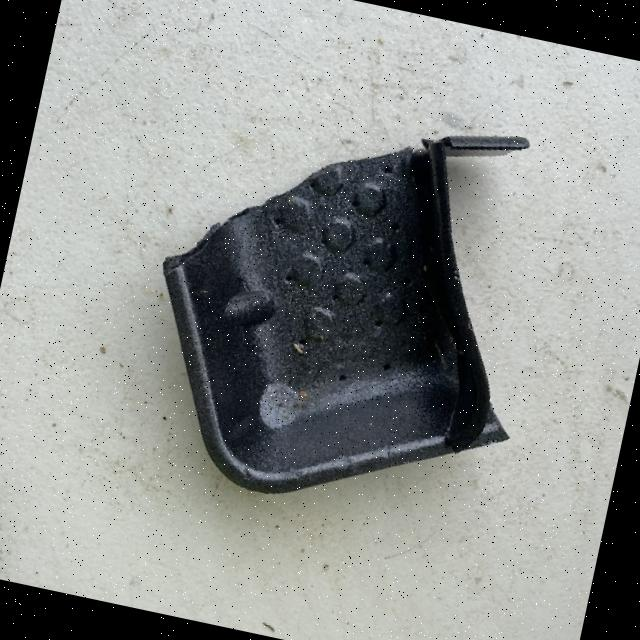styrofoam: (0, 0, 640, 640), (118, 66, 572, 542)
